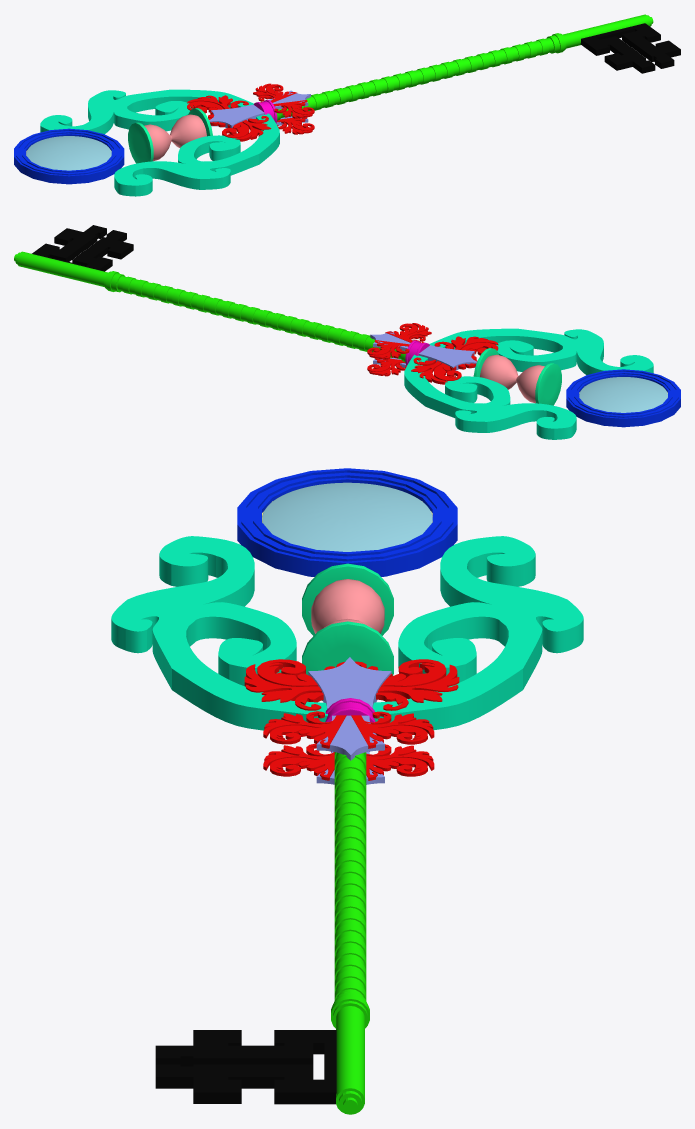
Rendered from KeyRenamed (1).FBX.
The picture shows the model from 3 angles, top to bottom: view 1: azimuth 30°, elevation 25°; view 2: azimuth 150°, elevation 25°; view 3: azimuth 270°, elevation 25°; orthographic projection. The views are drawn at different scales.
Parts seen in each view (by area): view 1: KeyHolder_low_KeyHolder_low, KeyRod_low_KeyRod_low, KeyTooth_low_KeyTooth_low, OrnateDecal_low_OrnateDecal_low, ClockBase_low_ClockBase_low, Glass_low_Glass_low, HourGlass_low_HourGlass_low, CrownDecal_low_CrownDecal_low, HourGlassBase_low_HourGlassBase_low; view 2: KeyHolder_low_KeyHolder_low, KeyRod_low_KeyRod_low, OrnateDecal_low_OrnateDecal_low, ClockBase_low_ClockBase_low, KeyTooth_low_KeyTooth_low, Glass_low_Glass_low, HourGlass_low_HourGlass_low, CrownDecal_low_CrownDecal_low, HourGlassBase_low_HourGlassBase_low; view 3: KeyHolder_low_KeyHolder_low, OrnateDecal_low_OrnateDecal_low, KeyRod_low_KeyRod_low, KeyTooth_low_KeyTooth_low, ClockBase_low_ClockBase_low, Glass_low_Glass_low, HourGlassBase_low_HourGlassBase_low, CrownDecal_low_CrownDecal_low, HourGlass_low_HourGlass_low.
Part boxes in pixels (left/top/right/bottom): KeyHolder_low_KeyHolder_low: left=40, top=89, right=279, bottom=196; KeyRod_low_KeyRod_low: left=276, top=14, right=653, bottom=120; KeyTooth_low_KeyTooth_low: left=580, top=23, right=680, bottom=73; OrnateDecal_low_OrnateDecal_low: left=187, top=83, right=314, bottom=141; ClockBase_low_ClockBase_low: left=14, top=128, right=124, bottom=184; Glass_low_Glass_low: left=26, top=136, right=111, bottom=170; HourGlass_low_HourGlass_low: left=144, top=114, right=206, bottom=161; CrownDecal_low_CrownDecal_low: left=209, top=90, right=310, bottom=128; HourGlassBase_low_HourGlassBase_low: left=128, top=108, right=212, bottom=163; KeyHolder_low_KeyHolder_low: left=404, top=328, right=653, bottom=439; KeyRod_low_KeyRod_low: left=14, top=251, right=405, bottom=362; OrnateDecal_low_OrnateDecal_low: left=367, top=323, right=498, bottom=384; ClockBase_low_ClockBase_low: left=566, top=369, right=680, bottom=427; KeyTooth_low_KeyTooth_low: left=32, top=225, right=133, bottom=271; Glass_low_Glass_low: left=579, top=377, right=667, bottom=412; HourGlass_low_HourGlass_low: left=480, top=354, right=544, bottom=403; CrownDecal_low_CrownDecal_low: left=370, top=331, right=476, bottom=370; HourGlassBase_low_HourGlassBase_low: left=473, top=348, right=561, bottom=405; KeyHolder_low_KeyHolder_low: left=111, top=536, right=583, bottom=730; OrnateDecal_low_OrnateDecal_low: left=244, top=659, right=459, bottom=780; KeyRod_low_KeyRod_low: left=331, top=752, right=369, bottom=1114; KeyTooth_low_KeyTooth_low: left=155, top=1030, right=336, bottom=1104; ClockBase_low_ClockBase_low: left=237, top=468, right=457, bottom=576; Glass_low_Glass_low: left=262, top=482, right=432, bottom=551; HourGlassBase_low_HourGlassBase_low: left=302, top=563, right=393, bottom=700; CrownDecal_low_CrownDecal_low: left=308, top=657, right=391, bottom=784; HourGlass_low_HourGlass_low: left=311, top=579, right=384, bottom=633.
Size of the model in its own units: 650 by 41.67 by 210.
